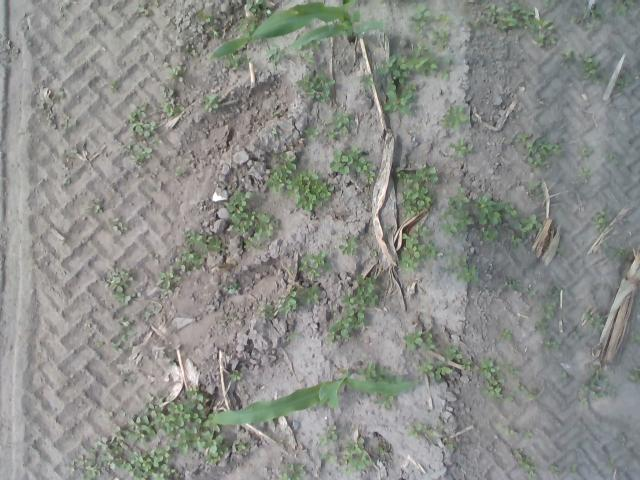Maize: (212, 366, 414, 426), (210, 0, 384, 59)
Weeds: (67, 391, 229, 480), (267, 152, 334, 211), (223, 190, 280, 249), (487, 2, 558, 46), (396, 162, 438, 218), (156, 249, 202, 295), (400, 222, 436, 274), (330, 146, 378, 184), (102, 260, 140, 306), (514, 132, 562, 167), (440, 186, 470, 238), (471, 192, 517, 224), (326, 308, 365, 344), (296, 67, 335, 102), (339, 437, 374, 476), (341, 274, 378, 308), (305, 112, 349, 140), (578, 364, 606, 407), (396, 42, 438, 70), (278, 286, 320, 313), (124, 103, 156, 137), (383, 81, 414, 114), (111, 316, 137, 352), (299, 250, 330, 277), (158, 86, 185, 116), (441, 102, 468, 130), (358, 362, 390, 382), (184, 228, 207, 252), (407, 423, 439, 440), (316, 424, 338, 447), (514, 214, 542, 232), (278, 462, 306, 480), (476, 358, 501, 378), (582, 52, 600, 79), (482, 377, 505, 398), (402, 327, 423, 350), (455, 263, 479, 282), (582, 7, 602, 28), (338, 236, 359, 256), (592, 209, 610, 232), (376, 54, 396, 74), (524, 180, 544, 200), (450, 138, 470, 158), (434, 361, 453, 380), (584, 310, 602, 330), (478, 226, 500, 242), (202, 93, 220, 112), (443, 346, 462, 364), (374, 393, 394, 410), (256, 300, 274, 318), (134, 144, 152, 162), (207, 234, 224, 253), (539, 301, 556, 319), (110, 218, 128, 235), (614, 1, 634, 16), (236, 18, 254, 34), (267, 42, 282, 61), (412, 3, 431, 18), (418, 359, 433, 378), (168, 66, 184, 83), (431, 30, 448, 46), (246, 0, 266, 13), (544, 337, 564, 350), (60, 112, 76, 128), (443, 257, 458, 274), (424, 332, 436, 352), (518, 456, 536, 469), (359, 74, 375, 88), (319, 450, 335, 464), (48, 108, 58, 130), (500, 363, 519, 374), (144, 306, 160, 319), (227, 54, 240, 70), (412, 21, 428, 34), (560, 50, 573, 66), (86, 202, 103, 214), (508, 234, 522, 248), (64, 144, 78, 158), (232, 439, 246, 452), (224, 284, 239, 296), (505, 278, 520, 289), (393, 70, 406, 82), (230, 370, 243, 382), (197, 10, 211, 21), (307, 40, 321, 51), (515, 382, 529, 393), (447, 438, 458, 452), (604, 153, 618, 163), (500, 328, 512, 339), (578, 166, 591, 176), (286, 332, 299, 342), (534, 322, 548, 331), (148, 253, 159, 264), (458, 251, 469, 262), (438, 14, 450, 24), (581, 146, 593, 156), (616, 247, 626, 259), (606, 386, 616, 398), (462, 359, 472, 371), (240, 54, 253, 63), (441, 70, 452, 80), (570, 331, 582, 340), (110, 83, 120, 93), (138, 6, 148, 16), (630, 332, 640, 342), (522, 429, 532, 439), (550, 463, 560, 473), (122, 144, 132, 154), (304, 52, 315, 61), (616, 78, 628, 86), (525, 471, 537, 479), (443, 55, 451, 66), (472, 18, 480, 28), (528, 390, 538, 398), (504, 426, 514, 434), (186, 45, 196, 53), (176, 166, 186, 174), (377, 447, 388, 454), (437, 418, 444, 428), (593, 76, 601, 84), (64, 177, 71, 186), (530, 288, 536, 298), (548, 290, 558, 296), (556, 247, 564, 254), (96, 340, 103, 348), (596, 284, 603, 291), (630, 374, 638, 380), (570, 464, 576, 472), (370, 250, 378, 256), (213, 30, 220, 36), (570, 15, 576, 22), (562, 370, 568, 377), (514, 450, 520, 457), (606, 461, 614, 466), (85, 322, 91, 328), (272, 130, 277, 136), (620, 432, 626, 437), (544, 0, 549, 5), (508, 396, 514, 400)
